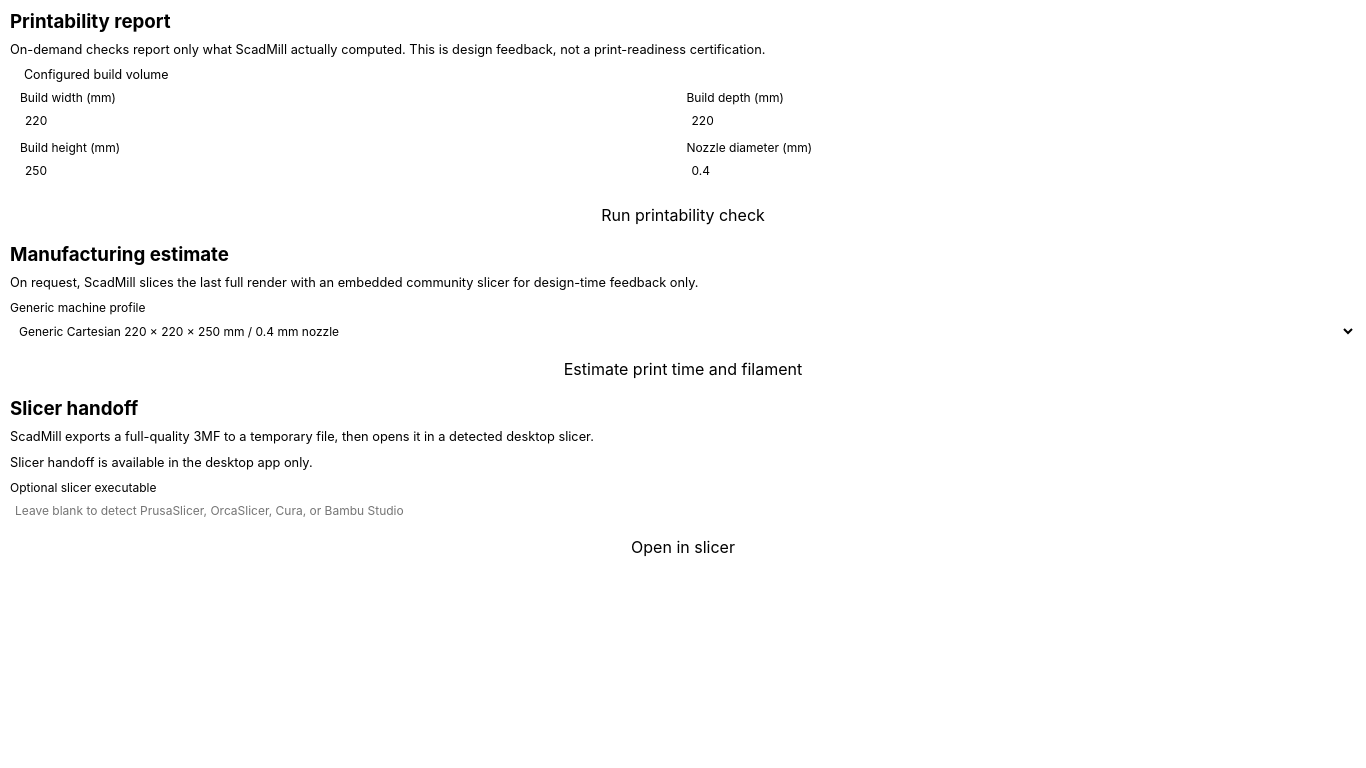
Test case: ManufacturingActivity › removes an estimate when its full-render source is replaced
Click the button "Estimate print time and filament" at (683, 369), box [10,353,1356,385]
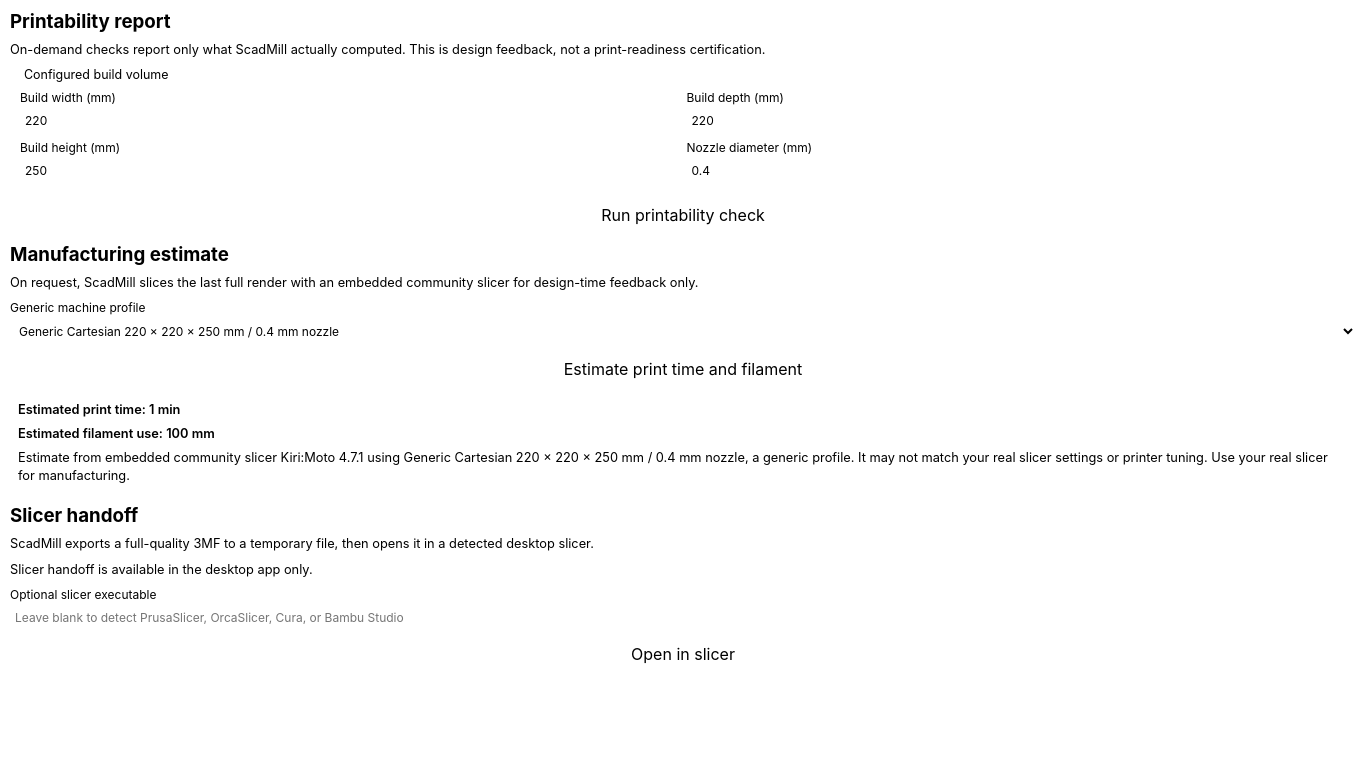
Now the text "Estimated print time: 1 min" is shown, box [18,402,180,417]
